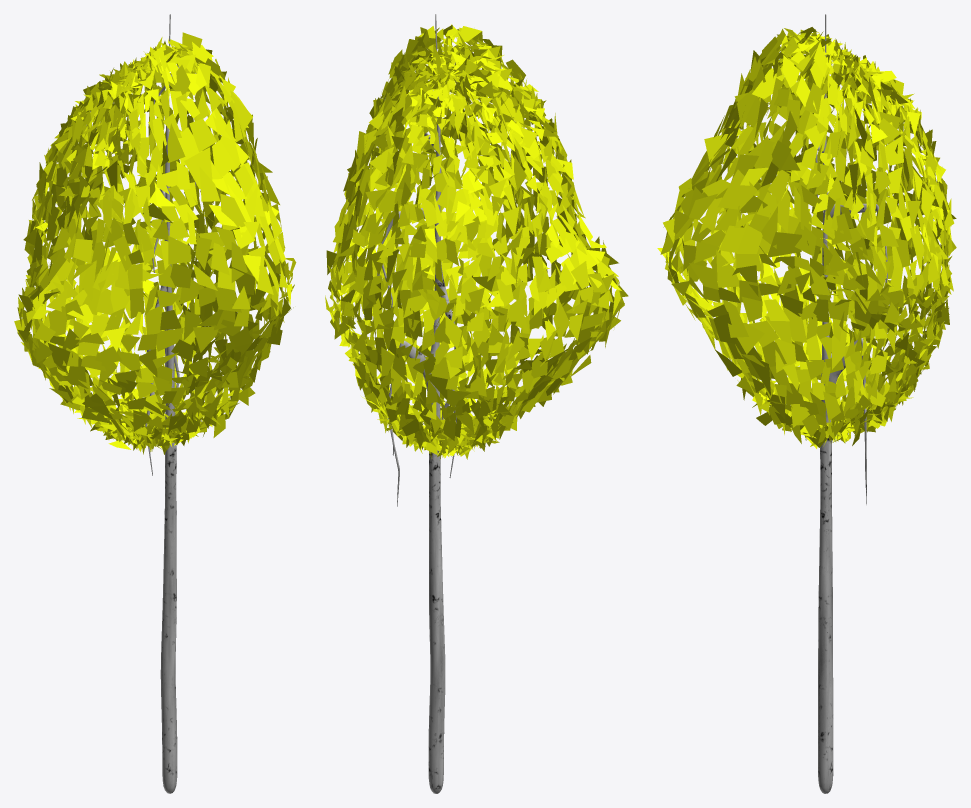
The model's file is Leaves32.002.fbx.
3 renders of one model, left to right at view 1: azimuth 30°, elevation 25°; view 2: azimuth 150°, elevation 25°; view 3: azimuth 270°, elevation 25°, orthographic.
Visible parts, largest first — view 1: Leaves32.002; view 2: Leaves32.002; view 3: Leaves32.002.
Boxes of the visible parts, <box> form: Leaves32.002: <box>14,14,296,793</box>; Leaves32.002: <box>325,14,628,793</box>; Leaves32.002: <box>657,14,956,793</box>.
Size of the model in its own units: 859 by 2574 by 896.
Materials: 2 (1 with a texture image).
